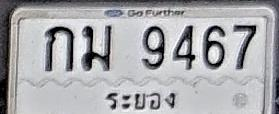4: (173, 24, 195, 70)
6: (203, 24, 225, 69)
7: (232, 24, 256, 70)
9: (142, 25, 165, 69)
A01: (44, 26, 74, 72)
A33: (82, 24, 112, 71)
RYG: (100, 87, 185, 114)
